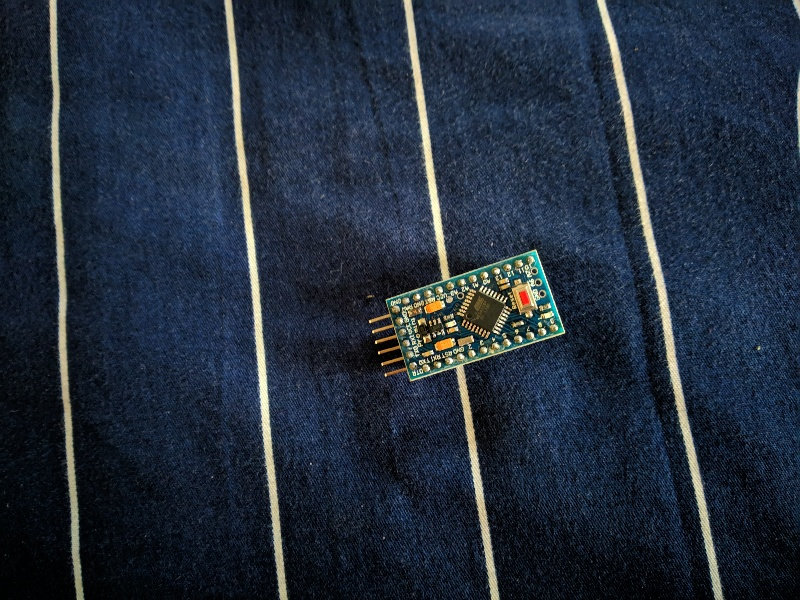Arduino Pro Mini: (380, 246, 568, 385)
